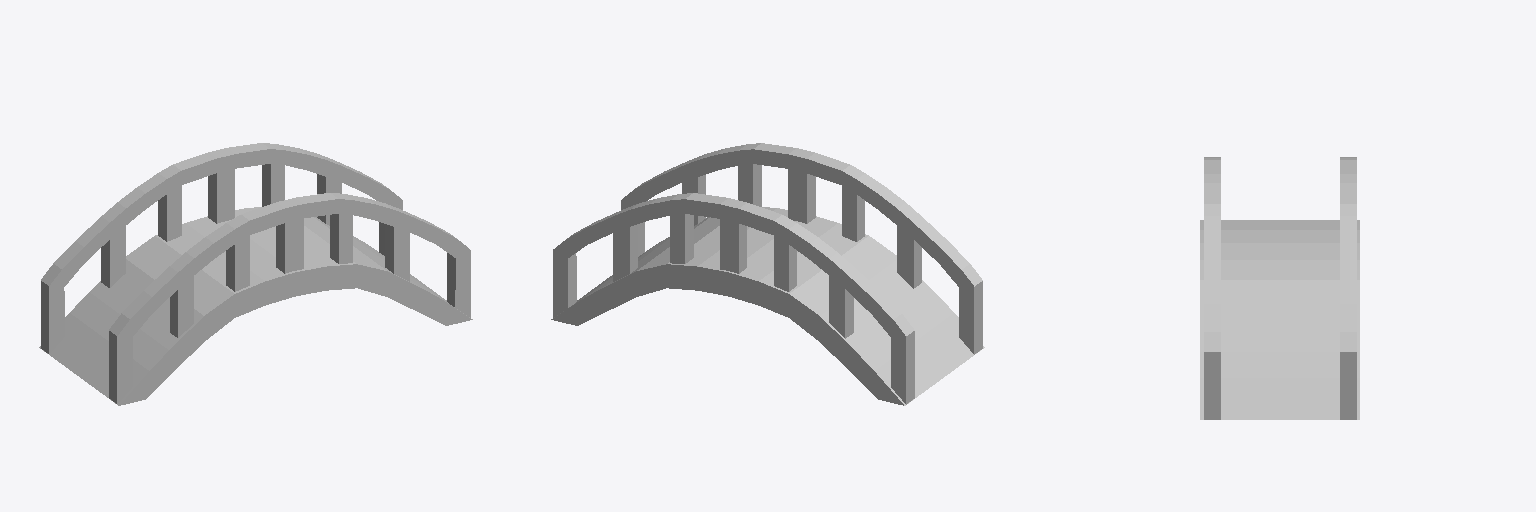
Rendered from bridge.obj.
3 renders of one model, left to right at view 1: azimuth 30°, elevation 25°; view 2: azimuth 150°, elevation 25°; view 3: azimuth 270°, elevation 25°, orthographic.
Visible parts, largest first — view 1: Cartoon_Bridge_v1_002; view 2: Cartoon_Bridge_v1_002; view 3: Cartoon_Bridge_v1_002.
Boxes of the visible parts, box(x1,y1,x2,y2) form: Cartoon_Bridge_v1_002: box(39, 143, 472, 405); Cartoon_Bridge_v1_002: box(551, 143, 984, 405); Cartoon_Bridge_v1_002: box(1200, 157, 1359, 419).
Bounding box in the file's own units: 14.64 × 6.14 × 5.72.